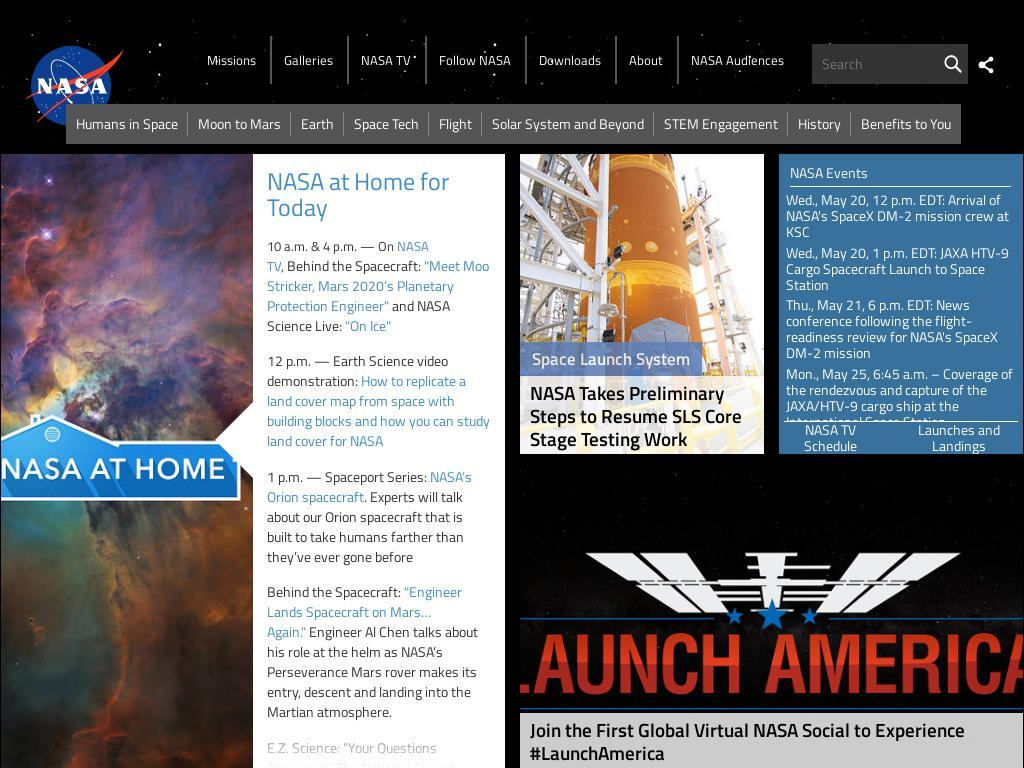button: (512, 469, 1024, 768), (512, 154, 772, 469), (0, 20, 152, 154), (785, 297, 1016, 362), (785, 366, 1016, 431), (785, 434, 1016, 499), (266, 168, 491, 220), (785, 191, 1016, 240), (785, 244, 1016, 293), (677, 20, 798, 100), (425, 20, 525, 100), (525, 20, 615, 100), (481, 104, 654, 144), (347, 20, 425, 100), (519, 342, 702, 376), (193, 20, 270, 100), (270, 20, 347, 100), (653, 104, 788, 144), (615, 20, 677, 100), (65, 104, 188, 144), (850, 104, 961, 144), (187, 104, 291, 144), (900, 422, 1019, 454), (343, 104, 429, 144), (783, 422, 878, 454), (787, 104, 851, 144), (290, 104, 344, 144), (428, 104, 482, 144)
field: (812, 43, 968, 84), (938, 48, 968, 79)
heading: (266, 168, 491, 220), (790, 164, 1012, 180)
image: (1, 154, 253, 768), (21, 41, 131, 133), (971, 45, 1004, 83)
link: (266, 370, 490, 452), (266, 254, 489, 316), (266, 581, 462, 643), (266, 465, 472, 507), (266, 235, 429, 276), (341, 314, 391, 336)
text: (519, 713, 1023, 768), (266, 621, 478, 723), (266, 485, 464, 567), (529, 378, 742, 453), (266, 294, 450, 336), (266, 350, 448, 392), (266, 736, 486, 768), (266, 465, 430, 487), (286, 254, 424, 276), (266, 581, 404, 603), (266, 235, 397, 256), (691, 50, 784, 70), (439, 50, 511, 70), (539, 50, 601, 70), (361, 50, 411, 70), (207, 50, 256, 70), (284, 50, 333, 70), (629, 50, 663, 70), (280, 255, 287, 276)
